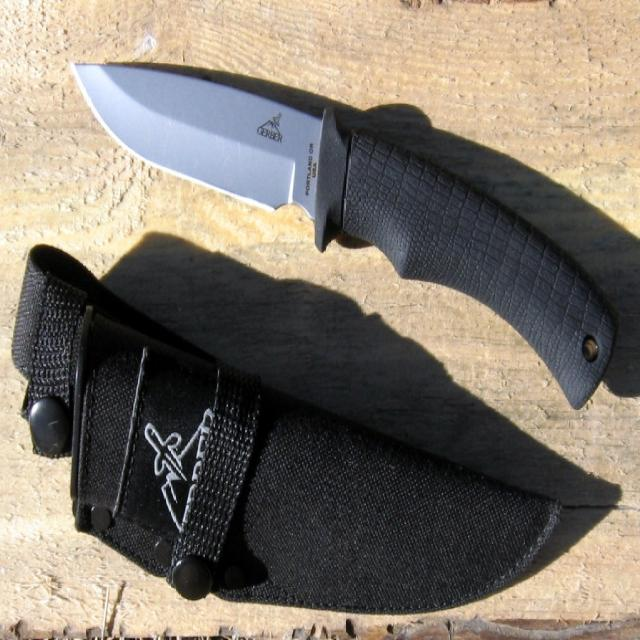knife: (71, 52, 623, 421)
